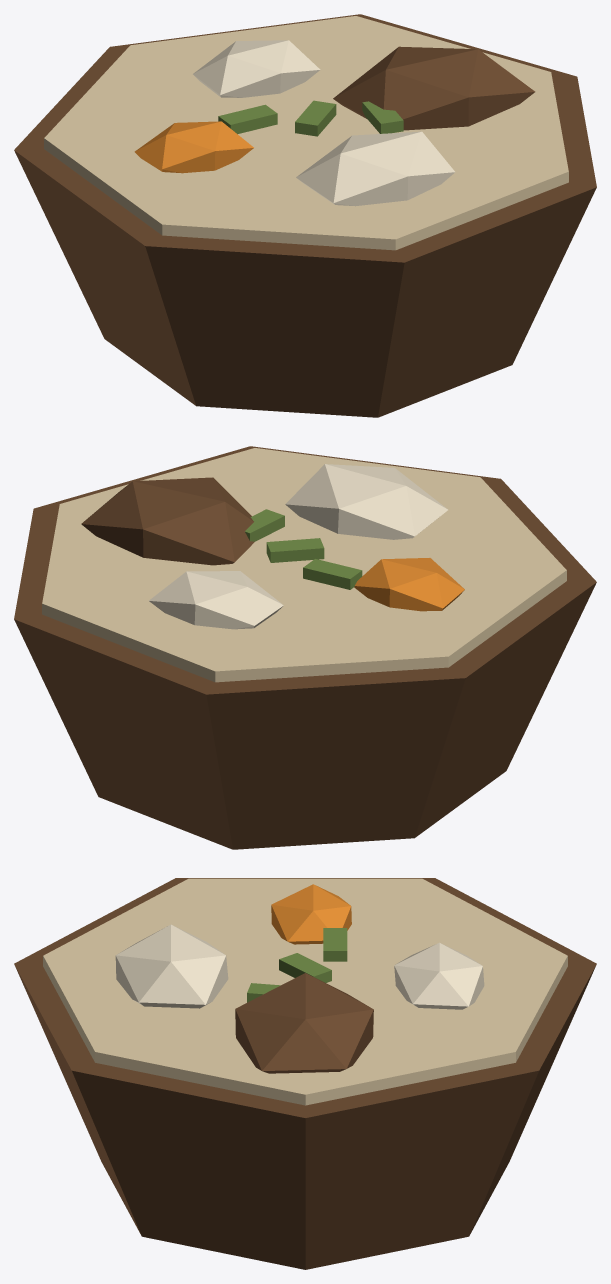
File: fish_stew.glb
The picture shows the model from 3 angles, top to bottom: view 1: azimuth 30°, elevation 25°; view 2: azimuth 150°, elevation 25°; view 3: azimuth 270°, elevation 25°; orthographic projection.
Parts seen in each view (by area): view 1: fish_stew; view 2: fish_stew; view 3: fish_stew.
Boxes of the visible parts, box(x1,y1,x2,y2) form: fish_stew: box(14, 14, 596, 417); fish_stew: box(14, 446, 596, 849); fish_stew: box(14, 878, 596, 1269).
Size of the model in its own units: 0.1901 by 0.0895 by 0.195.
